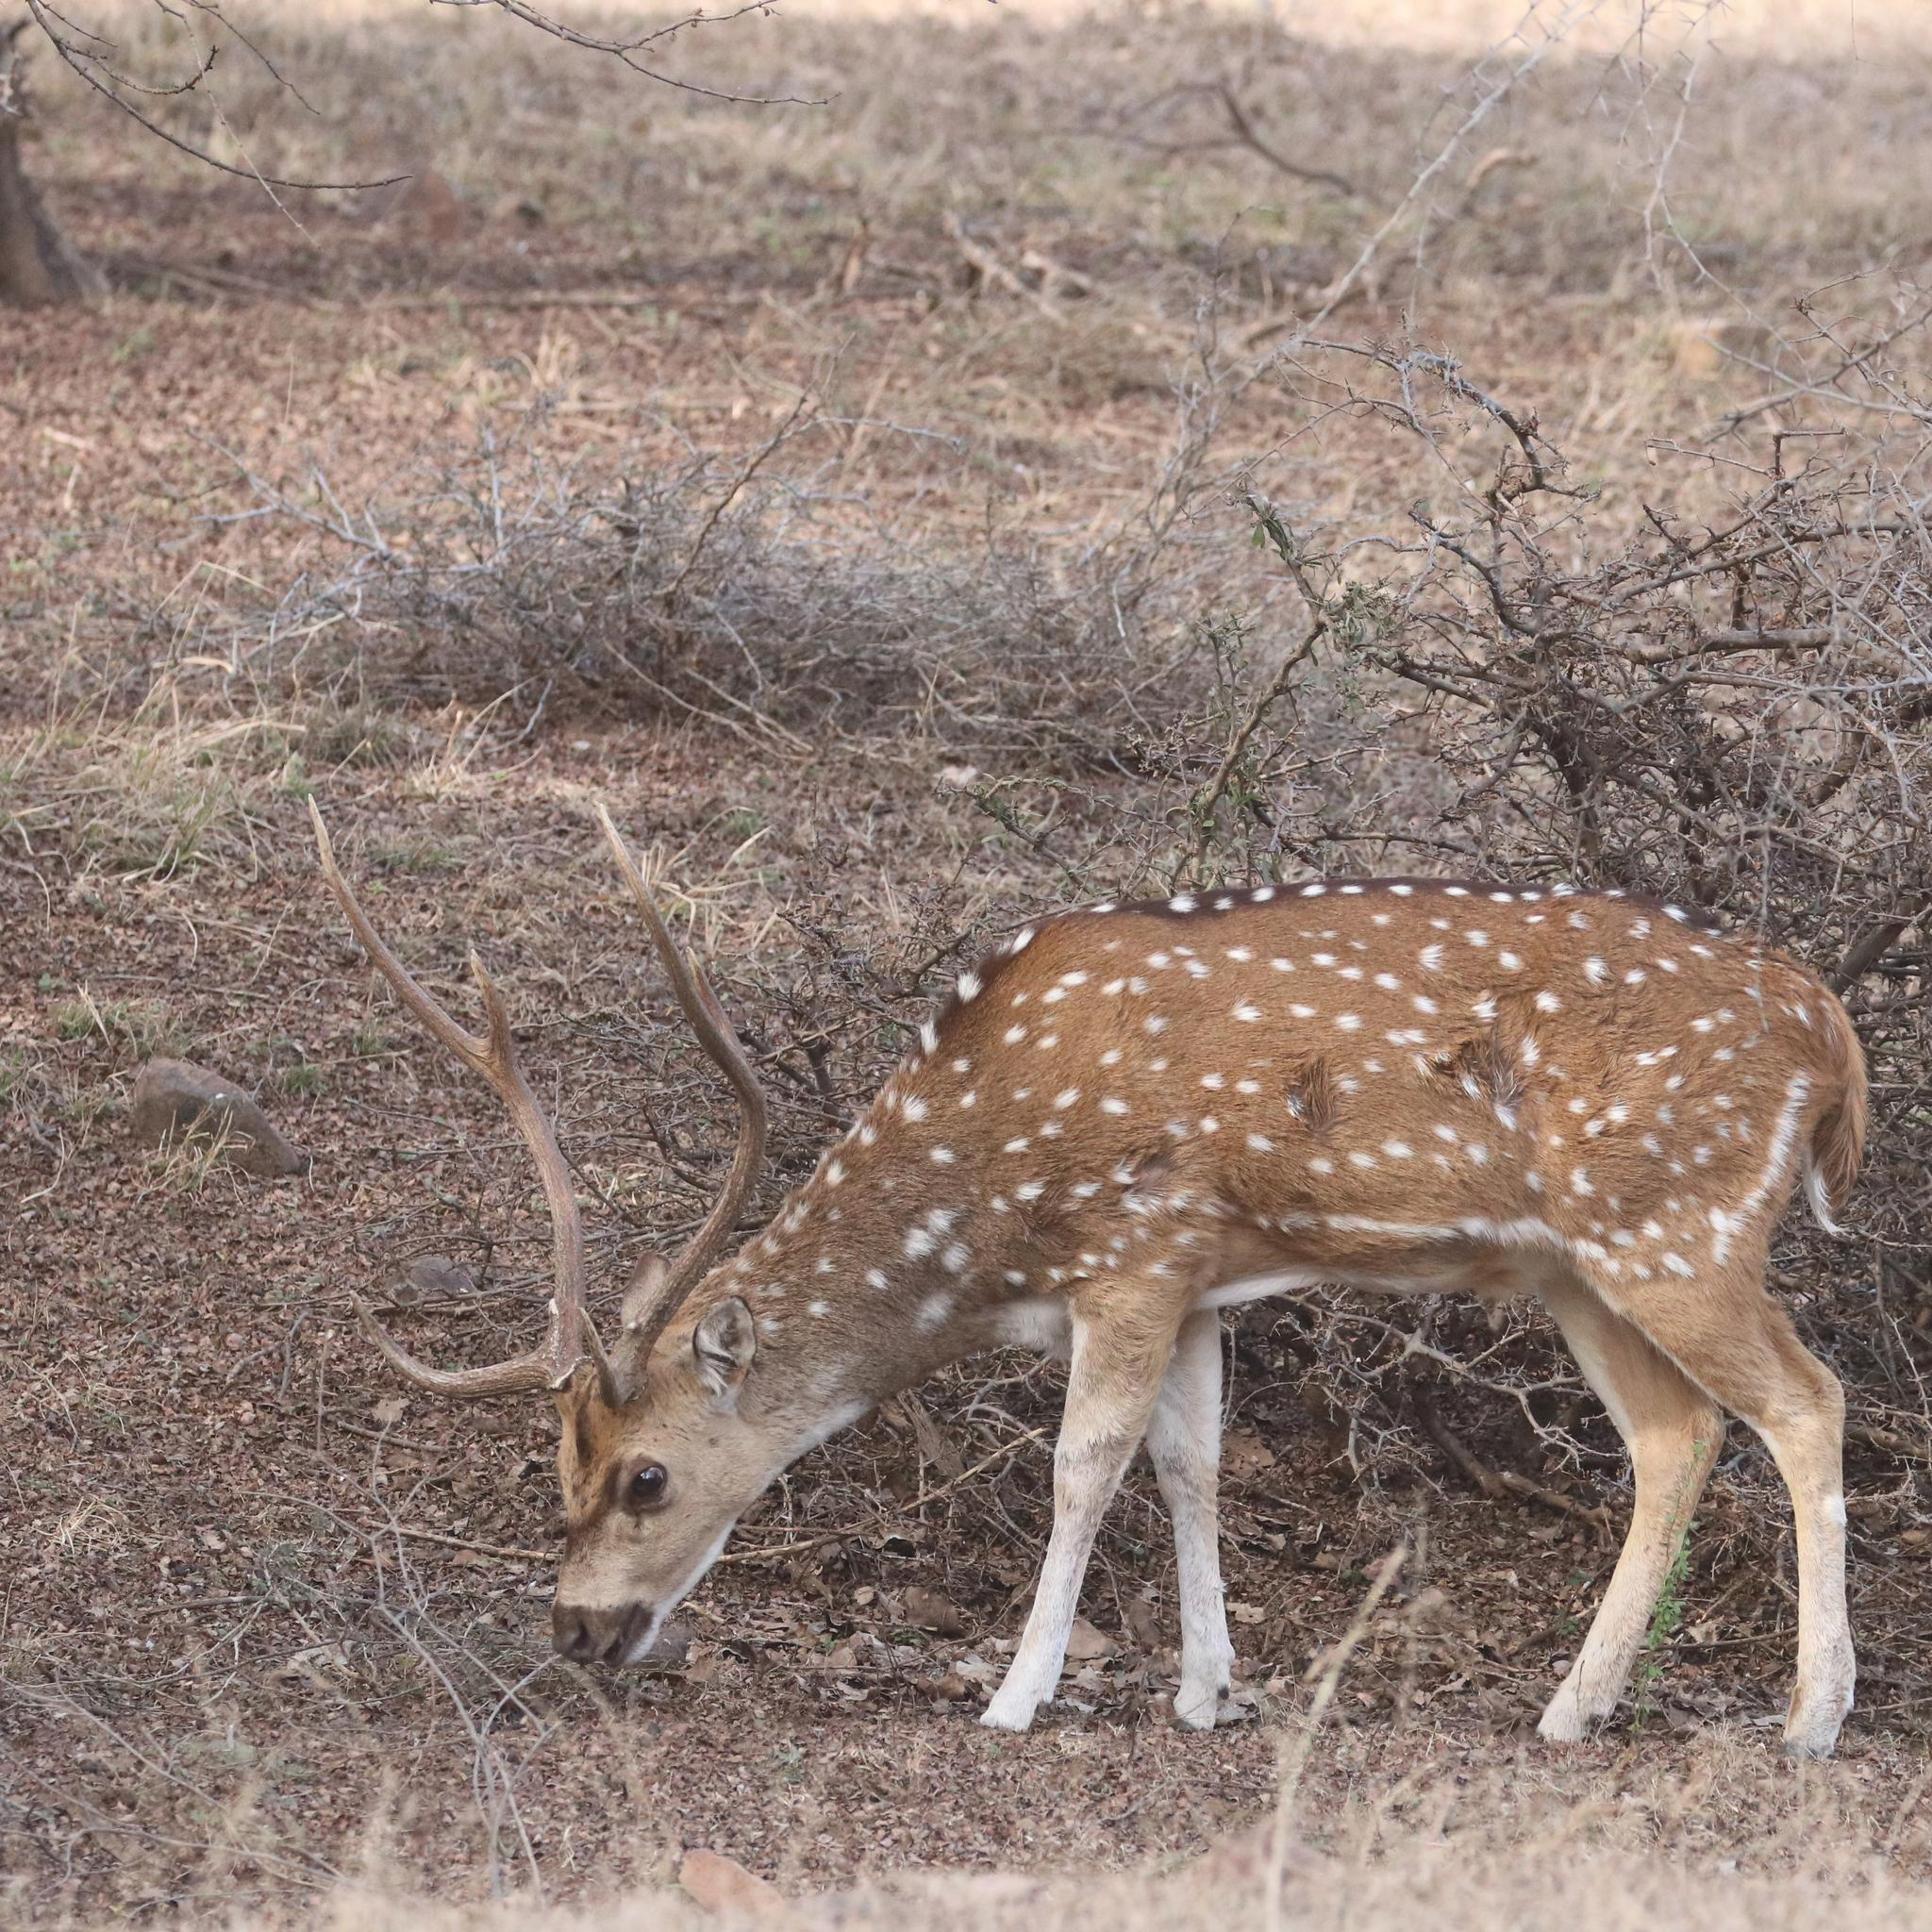Deer: (317, 803, 1867, 1753)
